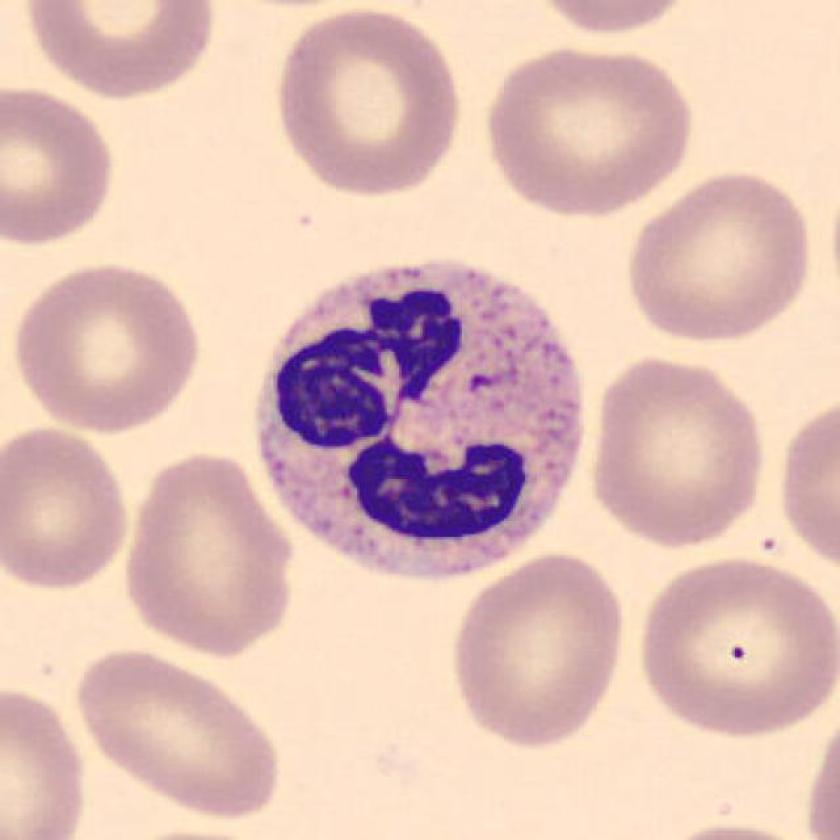neutrophil: (259, 264, 587, 577)
